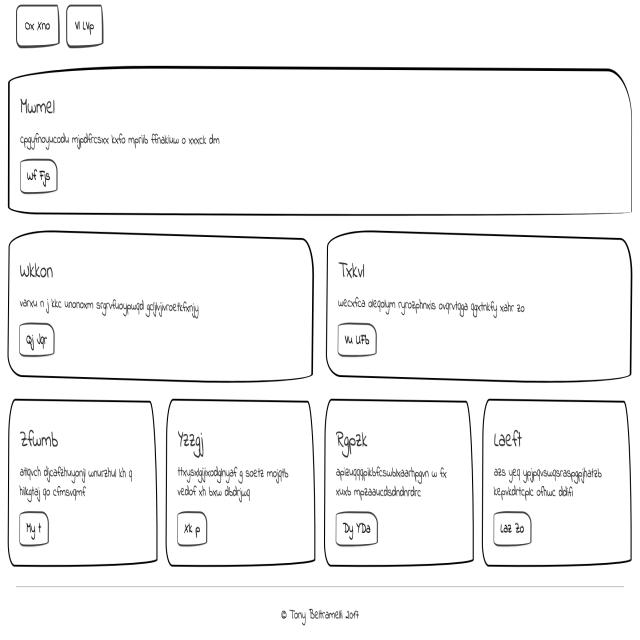Button: (332, 504, 388, 549), (17, 155, 65, 202), (491, 506, 539, 553), (16, 502, 52, 550), (16, 322, 59, 362), (336, 322, 380, 361), (172, 505, 210, 549)
Card: (7, 62, 635, 219), (326, 226, 634, 386), (8, 227, 315, 382), (325, 391, 477, 575), (481, 392, 634, 572), (167, 388, 318, 570), (7, 396, 159, 568)
Footer: (4, 575, 640, 640)
Heading 6: (16, 418, 68, 454), (333, 422, 379, 459), (13, 90, 65, 118), (338, 245, 373, 284), (16, 254, 59, 285), (176, 423, 215, 457), (494, 426, 528, 451)
Navigation Bar: (12, 2, 112, 53)
Paragraph: (18, 288, 215, 324), (18, 120, 225, 152), (173, 460, 300, 508), (333, 291, 533, 320), (490, 458, 614, 503), (332, 460, 464, 502), (19, 460, 140, 503)
